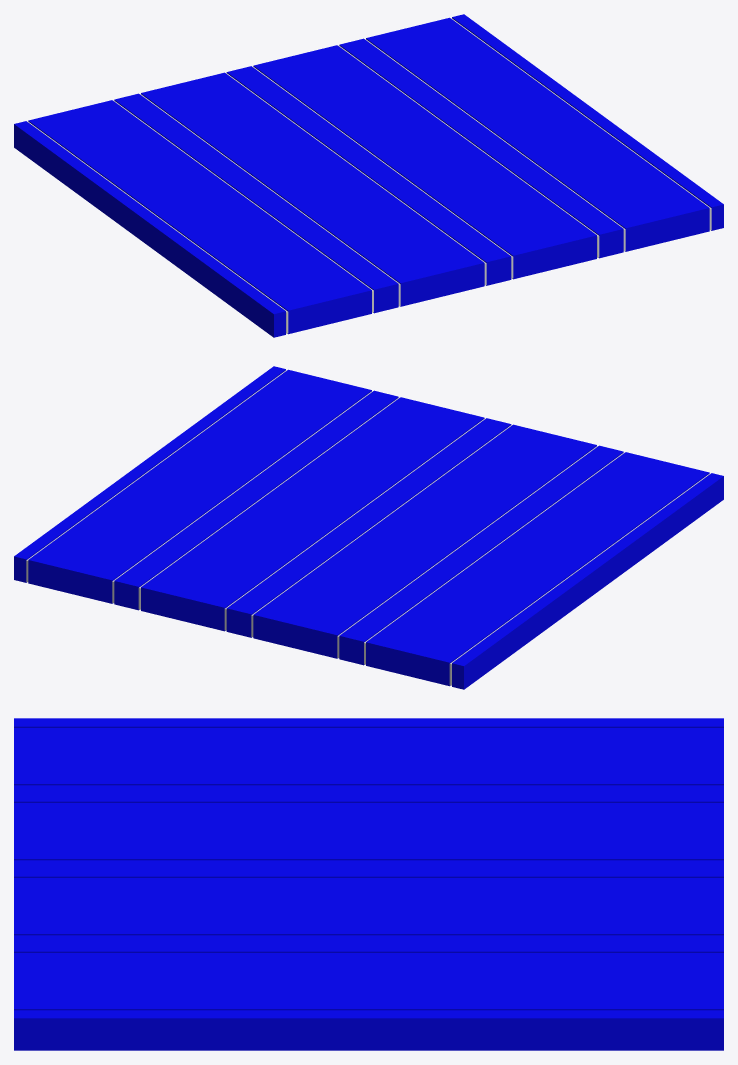
The model's file is Ceiling3x3Merged.fbx.
3 renders of one model, top to bottom at view 1: azimuth 30°, elevation 25°; view 2: azimuth 150°, elevation 25°; view 3: azimuth 270°, elevation 25°, orthographic. The views are drawn at different scales.
Visible parts, largest first — view 1: Ceiling3x3_Combined; view 2: Ceiling3x3_Combined; view 3: Ceiling3x3_Combined.
Part boxes in pixels (bbox=[...]): Ceiling3x3_Combined: bbox=[14, 14, 723, 337]; Ceiling3x3_Combined: bbox=[14, 366, 723, 689]; Ceiling3x3_Combined: bbox=[14, 718, 723, 1050].
Bounding box in the file's own units: 2000 × 100 × 2000.
